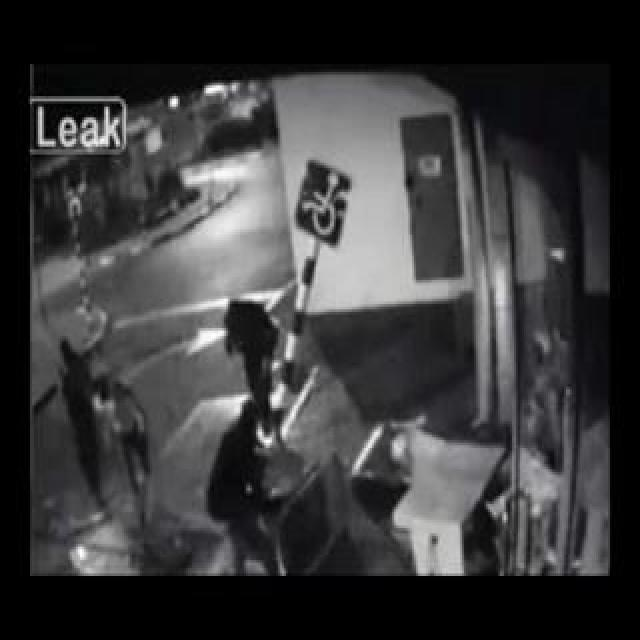thief: (72, 331, 126, 432), (184, 274, 248, 350)
